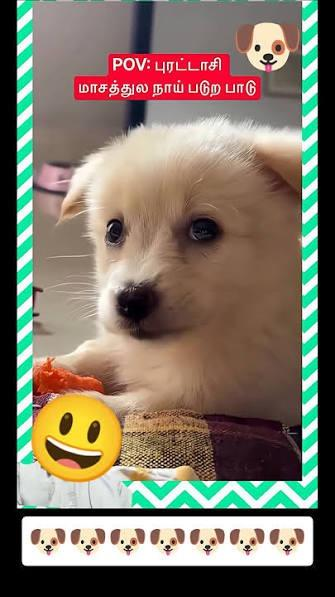puppy-dog: (46, 114, 305, 422)
